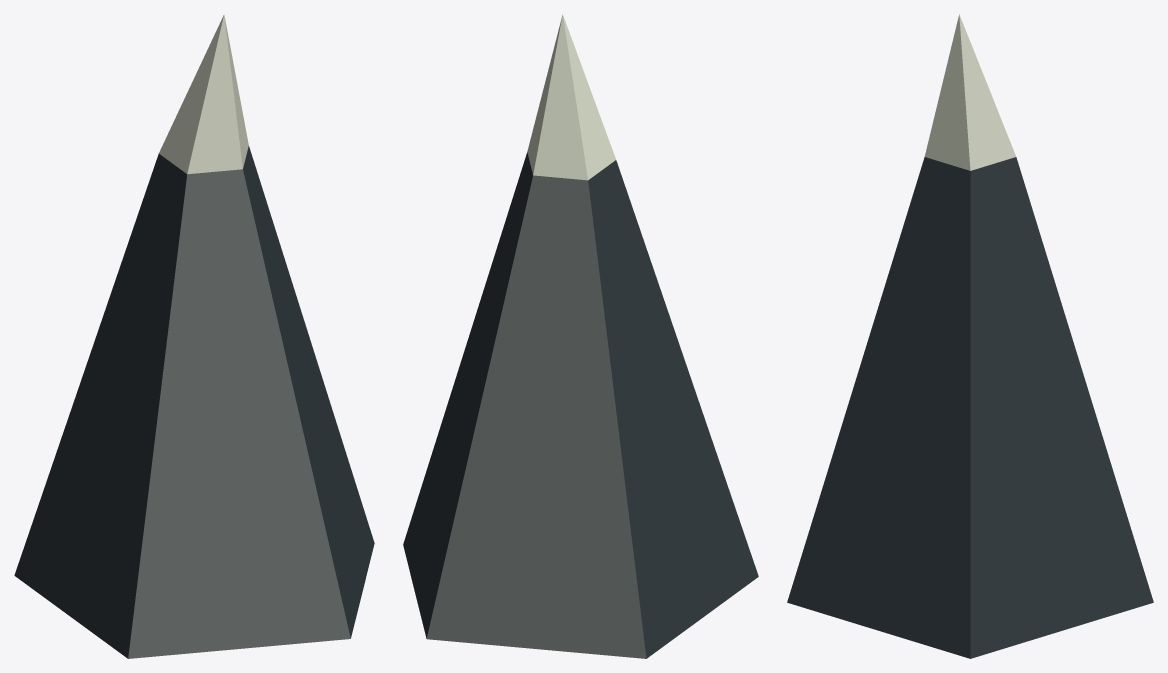
Rendered from MountainPeak.fbx.
The picture shows the model from 3 angles, left to right: view 1: azimuth 30°, elevation 25°; view 2: azimuth 150°, elevation 25°; view 3: azimuth 270°, elevation 25°; orthographic projection.
Parts seen in each view (by area): view 1: MountainPeak; view 2: MountainPeak; view 3: MountainPeak.
Part boxes in pixels (x1,y1,x2,y2): MountainPeak: (14, 14, 374, 658); MountainPeak: (403, 14, 758, 658); MountainPeak: (787, 14, 1153, 658).
Size of the model in its own units: 77.79 by 140 by 81.79.
